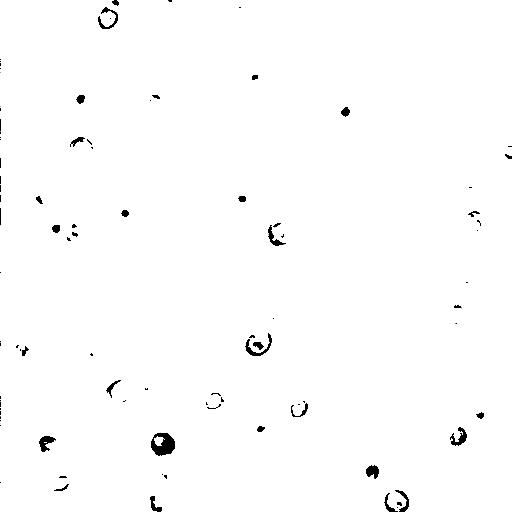micro-algae: (5, 61, 101, 157), (83, 422, 167, 503), (348, 65, 422, 145), (106, 358, 166, 416), (465, 89, 512, 155), (4, 381, 53, 427), (31, 477, 97, 511), (0, 114, 33, 176), (138, 309, 184, 353), (70, 340, 115, 382), (54, 0, 125, 25), (323, 90, 365, 130), (244, 0, 298, 30), (234, 60, 276, 96), (156, 351, 193, 390), (27, 180, 62, 215), (265, 215, 299, 250), (39, 209, 72, 243), (458, 207, 492, 239), (233, 481, 268, 512), (111, 199, 141, 229), (245, 326, 273, 358), (150, 431, 179, 459), (251, 409, 276, 441), (141, 487, 174, 511), (448, 279, 478, 305), (67, 134, 94, 161), (105, 379, 135, 403), (69, 86, 93, 115), (65, 221, 92, 246), (384, 488, 412, 512), (442, 306, 468, 331), (10, 340, 35, 366), (459, 180, 484, 204), (464, 405, 492, 425), (136, 384, 159, 408), (97, 7, 120, 30), (289, 396, 311, 420), (38, 436, 63, 457), (1, 202, 20, 229), (266, 89, 289, 111), (203, 390, 225, 412), (448, 425, 469, 447), (500, 84, 512, 122), (153, 467, 174, 487), (49, 474, 69, 494), (363, 463, 382, 484), (227, 1, 252, 16), (269, 303, 286, 323), (159, 0, 183, 12), (235, 192, 253, 207), (503, 142, 512, 163)
